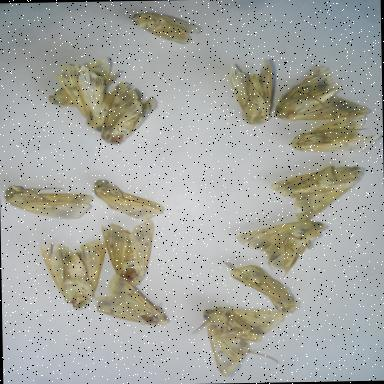abw: (186, 304, 298, 382), (229, 212, 335, 288), (264, 61, 378, 129), (260, 162, 372, 230), (29, 236, 114, 316), (50, 57, 126, 136), (90, 216, 164, 295), (220, 256, 308, 322), (86, 270, 178, 332), (94, 73, 166, 152), (218, 53, 281, 132), (284, 108, 382, 158), (0, 180, 100, 228), (86, 175, 174, 225), (128, 8, 208, 52)
